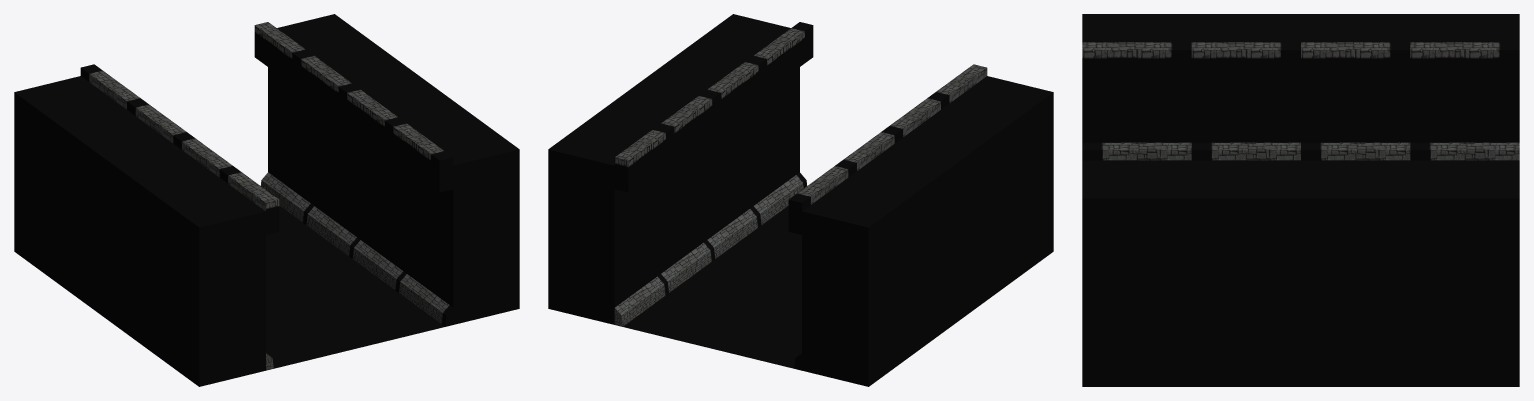
The model's file is Segment_Straight.FBX.
The picture shows the model from 3 angles, left to right: view 1: azimuth 30°, elevation 25°; view 2: azimuth 150°, elevation 25°; view 3: azimuth 270°, elevation 25°; orthographic projection. The views are drawn at different scales.
Visible parts, largest first — view 1: Piece_Straight005, Piece_Straight, Plane012, Piece_Straight006, Piece_Straight007, Piece_Straight008, Piece_Straight002, Piece_Straight003, Piece_Straight004; view 2: Piece_Straight008, Piece_Straight004, Plane012, Piece_Straight007, Piece_Straight005, Piece_Straight006, Piece_Straight003, Piece_Straight002, Piece_Straight; view 3: Piece_Straight, Piece_Straight004, Piece_Straight002, Piece_Straight003, Piece_Straight005, Piece_Straight006, Piece_Straight007, Piece_Straight008.
Part boxes in pixels (x1,y1,x2,y2): Piece_Straight005: [153, 166, 279, 386]; Piece_Straight: [393, 115, 519, 326]; Plane012: [266, 206, 444, 368]; Piece_Straight006: [106, 132, 232, 352]; Piece_Straight007: [60, 98, 186, 318]; Piece_Straight008: [14, 64, 139, 284]; Piece_Straight002: [347, 82, 472, 292]; Piece_Straight003: [301, 48, 426, 258]; Piece_Straight004: [254, 14, 380, 224]; Piece_Straight008: [788, 166, 914, 386]; Piece_Straight004: [548, 115, 674, 326]; Plane012: [623, 206, 801, 368]; Piece_Straight007: [835, 132, 961, 352]; Piece_Straight005: [928, 64, 1053, 284]; Piece_Straight006: [881, 98, 1007, 318]; Piece_Straight003: [595, 82, 720, 292]; Piece_Straight002: [641, 48, 766, 258]; Piece_Straight: [687, 14, 813, 224]; Piece_Straight: [1082, 142, 1191, 386]; Piece_Straight004: [1410, 142, 1519, 386]; Piece_Straight002: [1191, 142, 1300, 386]; Piece_Straight003: [1301, 142, 1410, 386]; Piece_Straight005: [1082, 14, 1191, 142]; Piece_Straight006: [1191, 14, 1300, 142]; Piece_Straight007: [1301, 14, 1410, 142]; Piece_Straight008: [1410, 14, 1519, 142].
Size of the model in its own units: 400 by 200 by 400.
